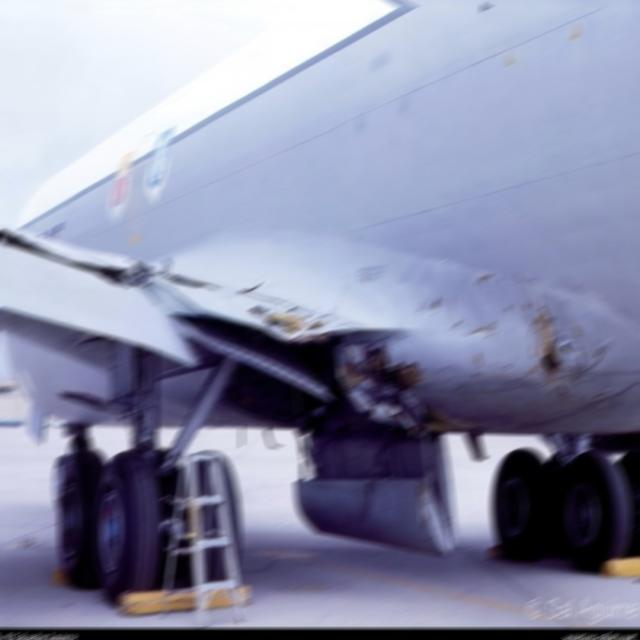dent: (398, 264, 525, 364)
